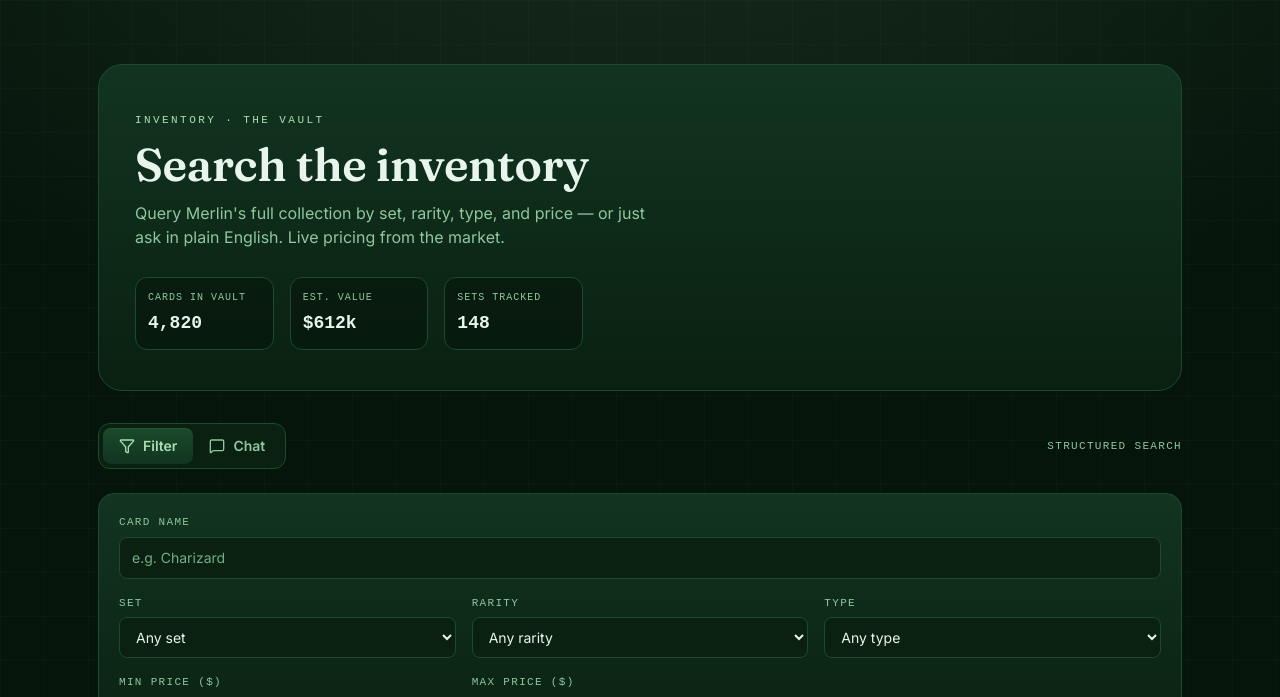
Inventory page › switches to chat mode when the chat tab is selected
What coordinates should you click on to do the following:
click the tab "Chat"
I would click on:
 (237, 446)
Its box is [193, 428, 281, 464].
(page scrolled)
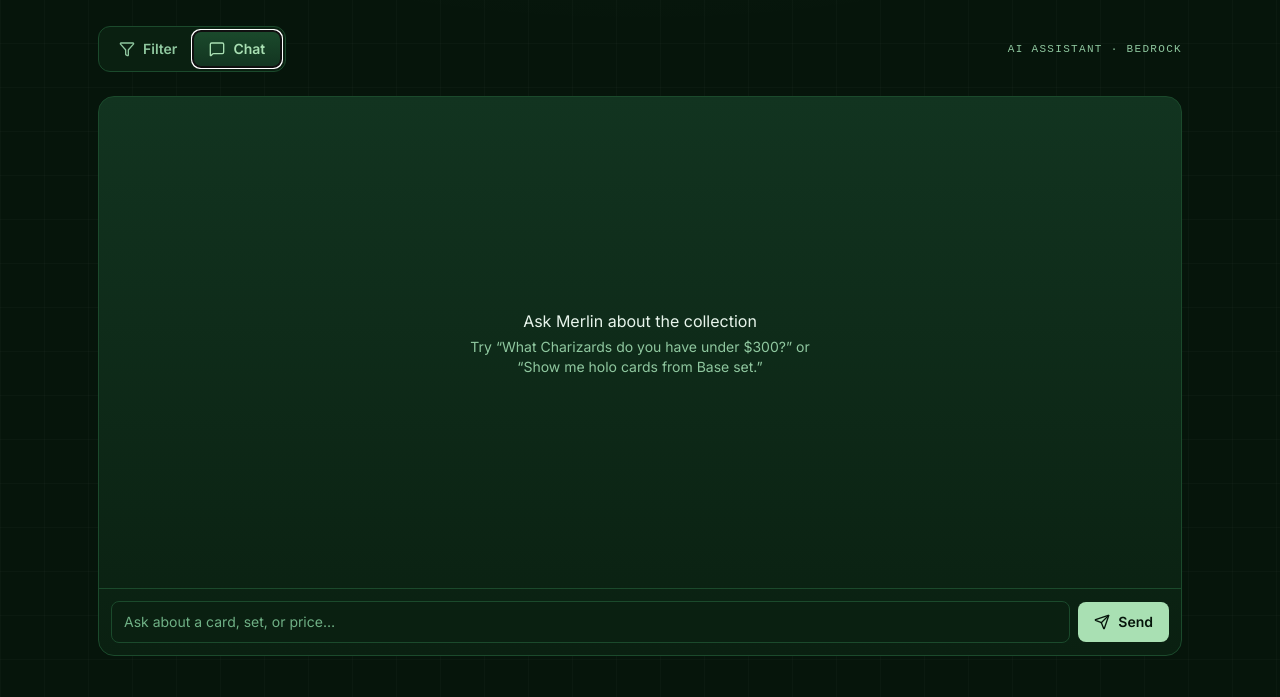
Result: the button "Send" is shown at [1078, 602, 1169, 642]
